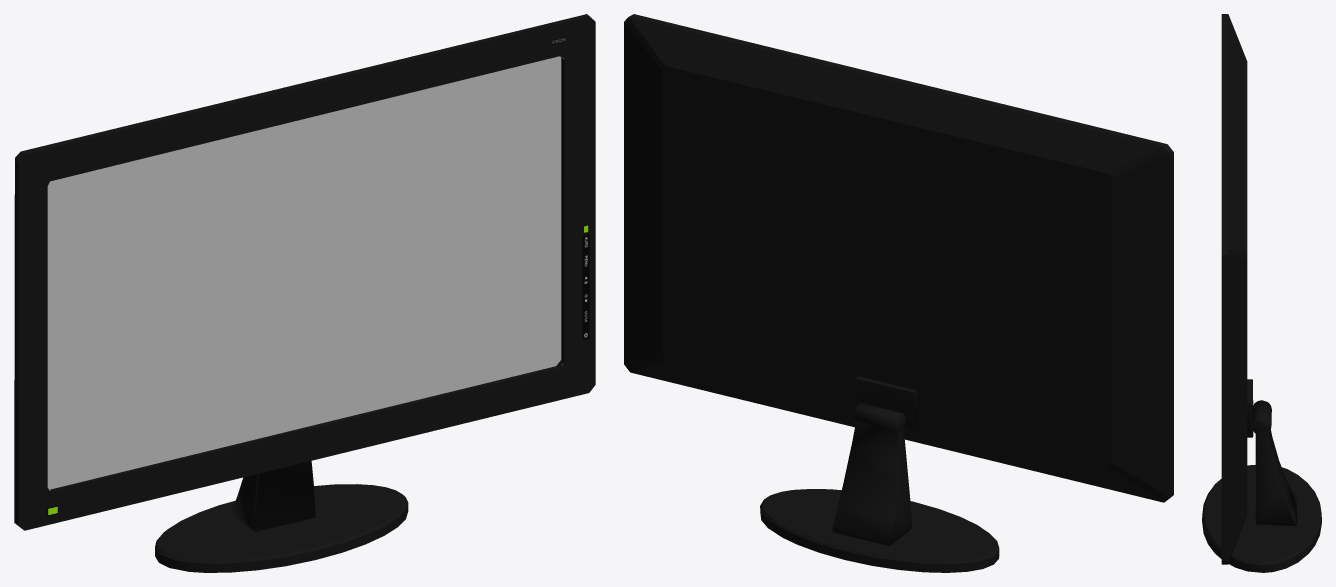
File: Monitor.FBX
3 views of the same model, side by side, from view 1: azimuth 30°, elevation 25°; view 2: azimuth 150°, elevation 25°; view 3: azimuth 270°, elevation 25° (orthographic). The views are drawn at different scales.
Visible parts, largest first — view 1: Monitor; view 2: Monitor; view 3: Monitor.
Part boxes in pixels (x1,y1,x2,y2): Monitor: (14, 14, 595, 572); Monitor: (624, 14, 1173, 572); Monitor: (1202, 14, 1321, 572).
Size of the model in its own units: 52.13 by 40.14 by 11.08.
